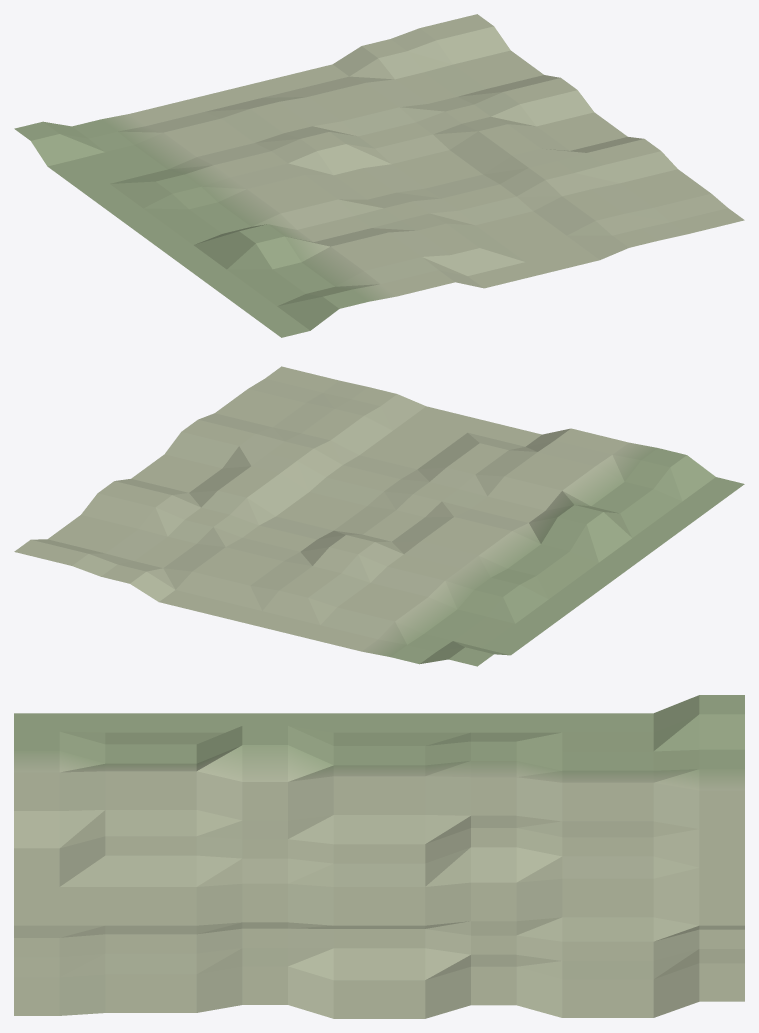
3 views of the same model, one above another, from view 1: azimuth 30°, elevation 25°; view 2: azimuth 150°, elevation 25°; view 3: azimuth 270°, elevation 25° (orthographic). The views are drawn at different scales.
Size of the model in its own units: 32 by 1.26 by 32.
